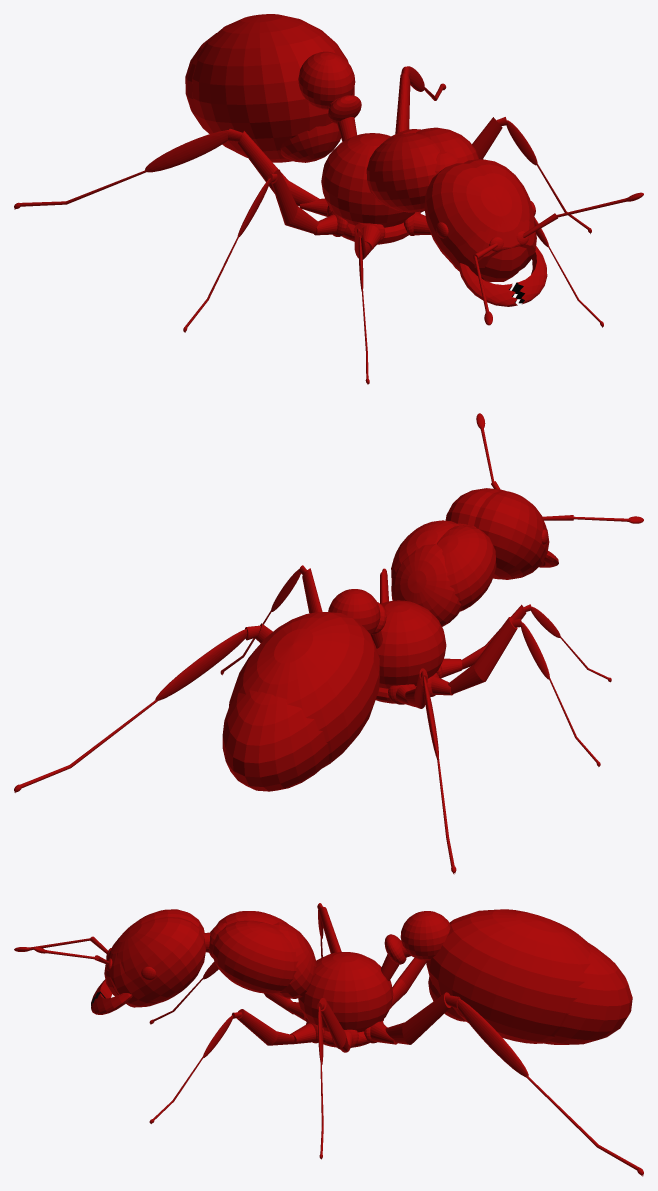
Rendered from Ants.fbx.
3 views of the same model, one above another, from view 1: azimuth 30°, elevation 25°; view 2: azimuth 150°, elevation 25°; view 3: azimuth 270°, elevation 25° (orthographic). The views are drawn at different scales.
Visible parts, largest first — view 1: Ant; view 2: Ant; view 3: Ant.
Part boxes in pixels (x1=…): Ant: x1=14, y1=14, x2=643, y2=384; Ant: x1=14, y1=413, x2=643, y2=874; Ant: x1=14, y1=903, x2=643, y2=1176.
Size of the model in its own units: 0.4812 by 0.1929 by 0.666.
